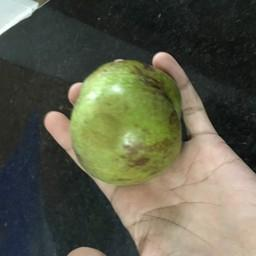Bad_apple: (70, 61, 179, 180)
